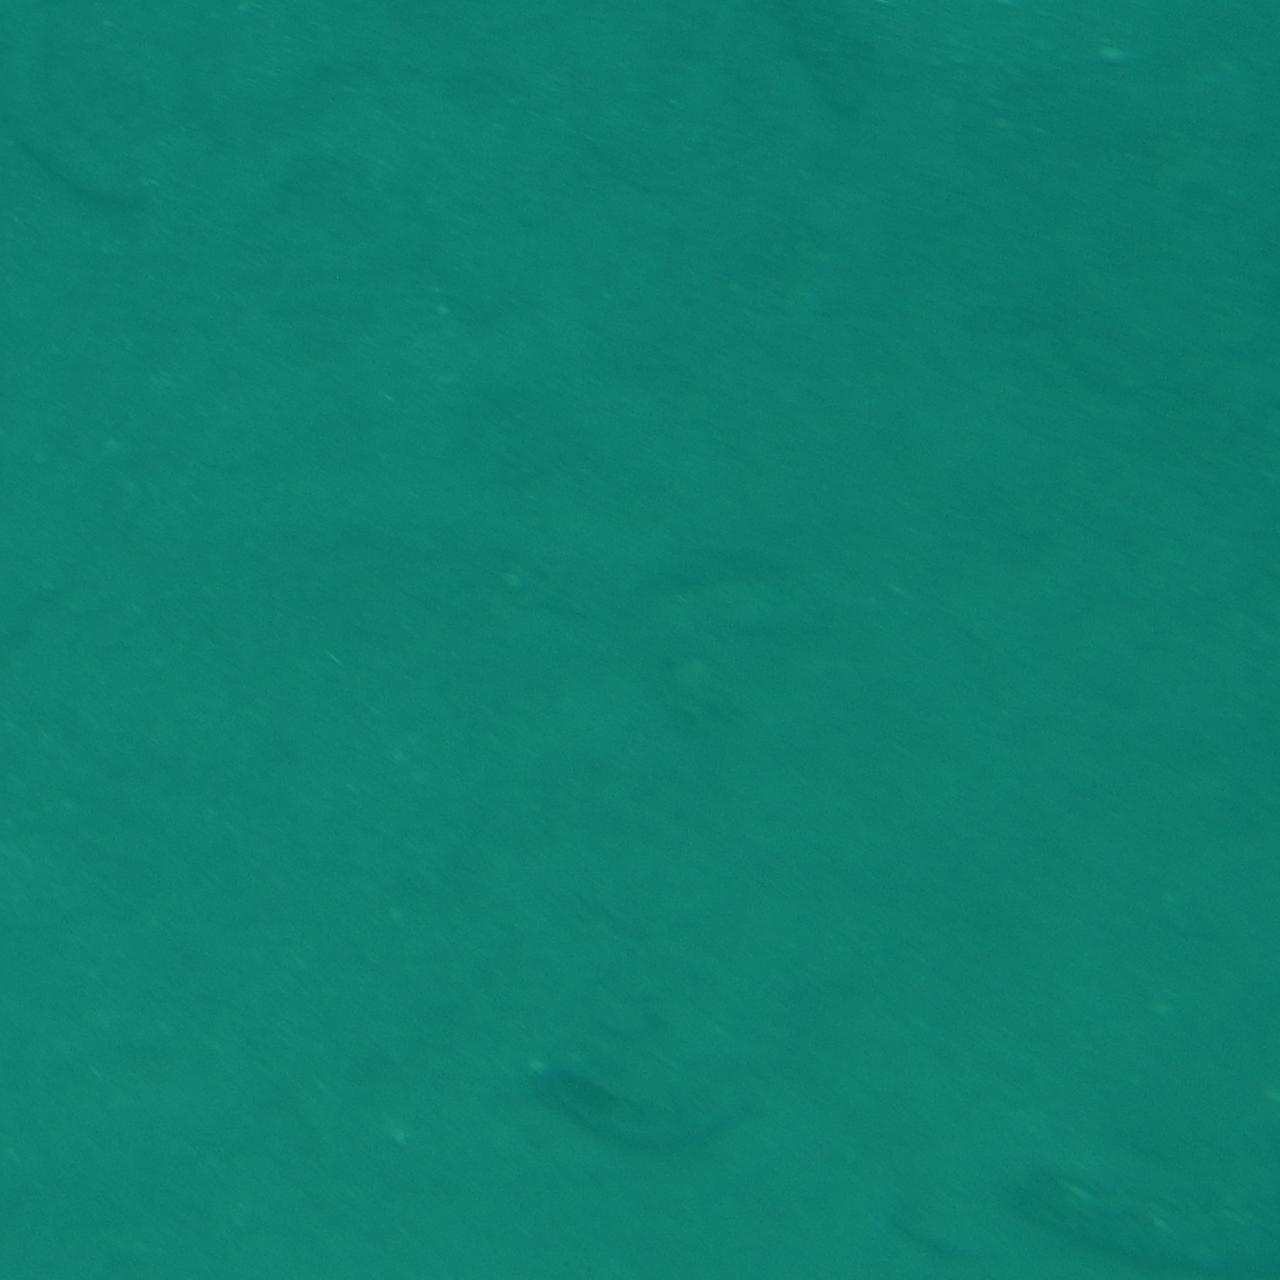Holothuria tubulosa: (522, 1043, 758, 1146)
